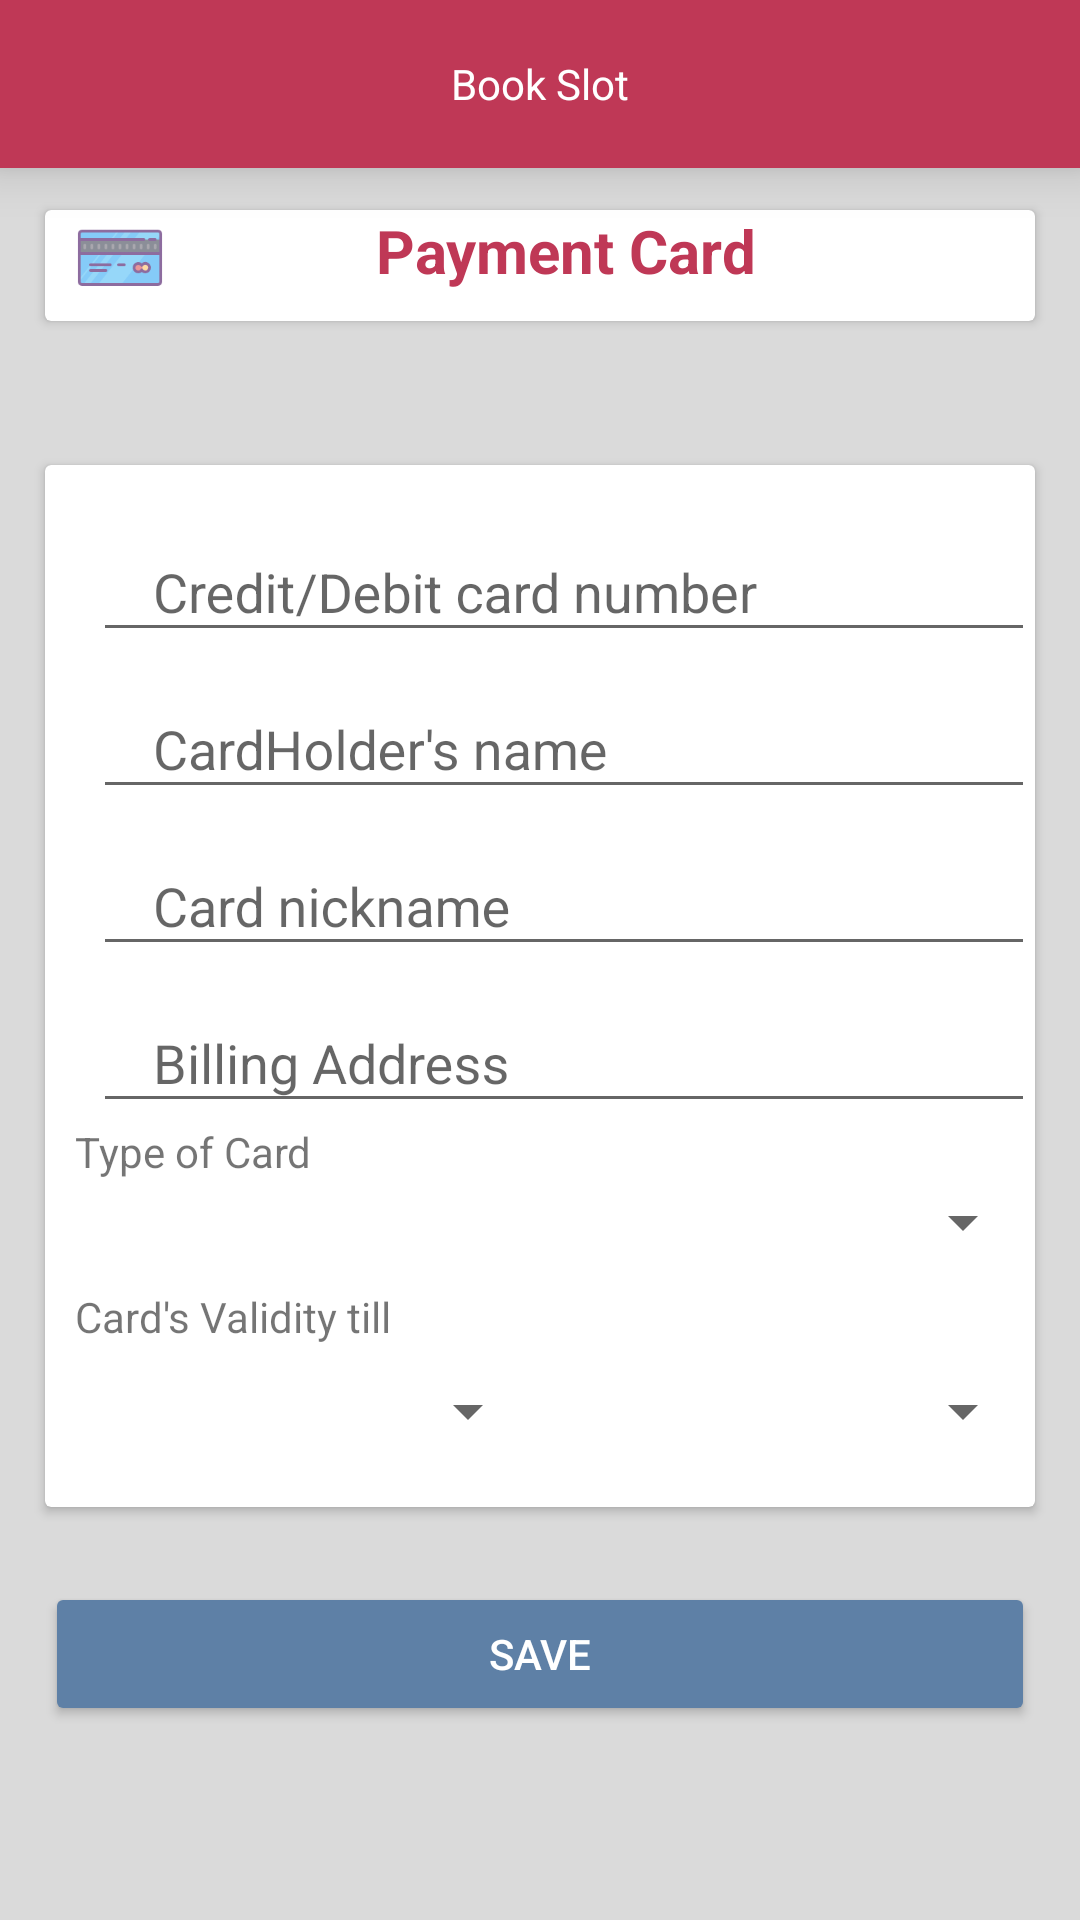

Screen size 1080x1920. Icon name, then its center in pixels as (x=x, y=y):
cardpay: (x=120, y=257)
